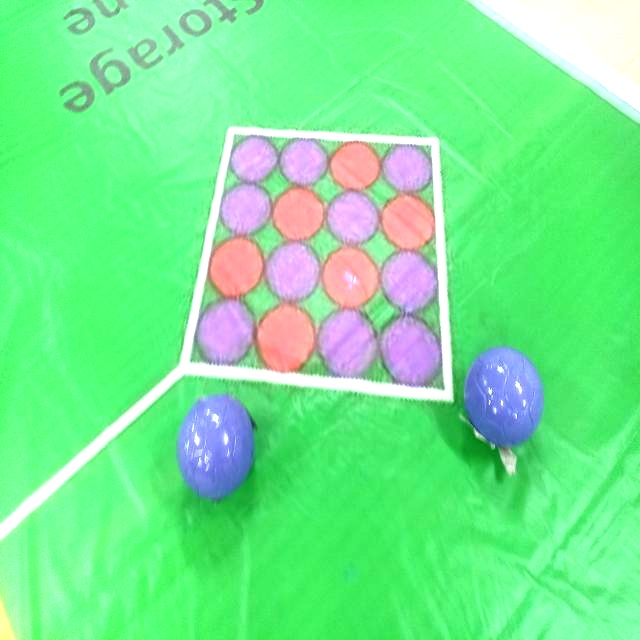purple_ball: (176, 393, 257, 502), (463, 346, 546, 444)
